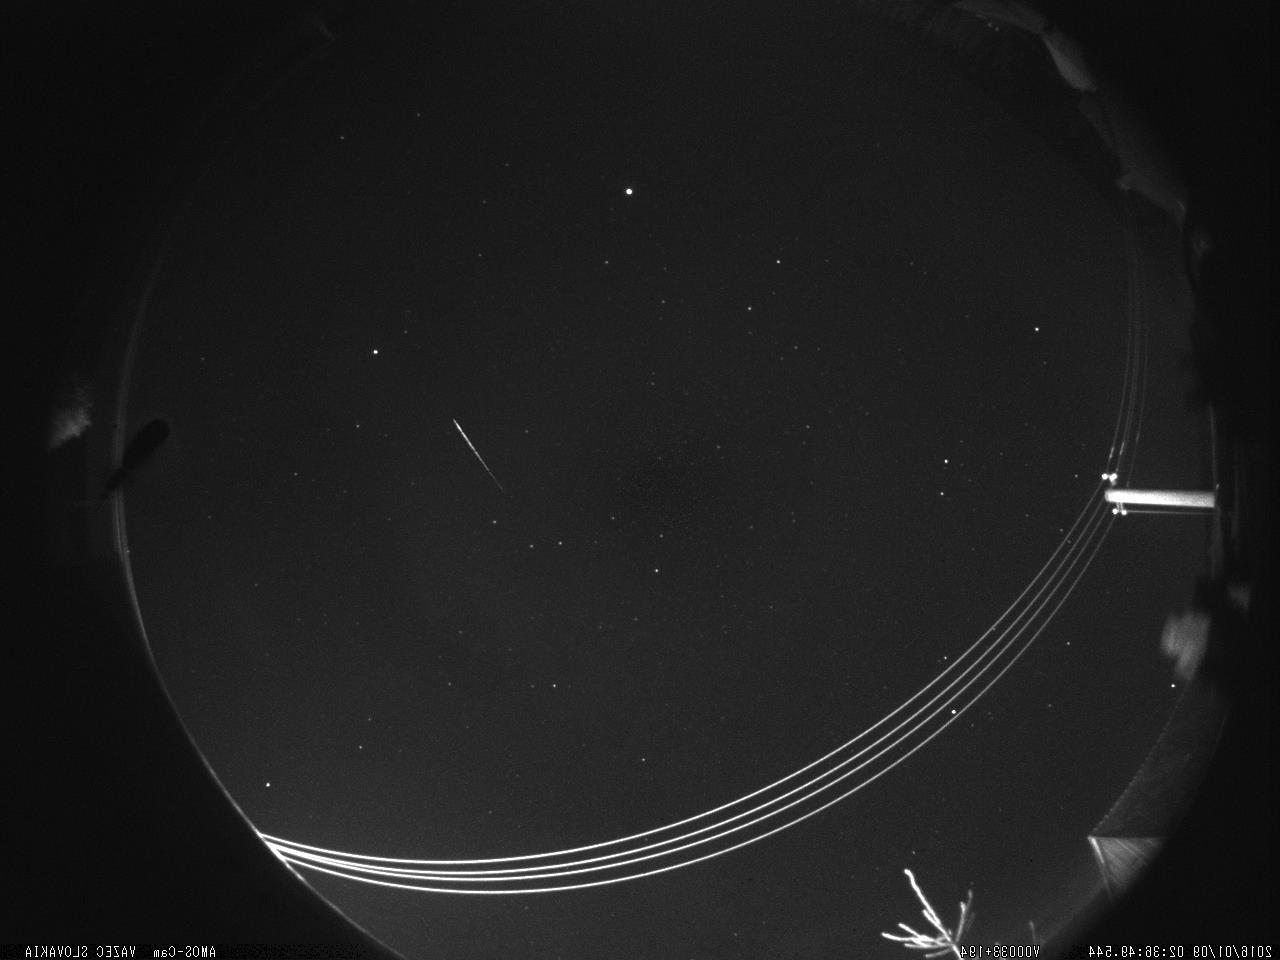meteor: (424, 394, 524, 501)
